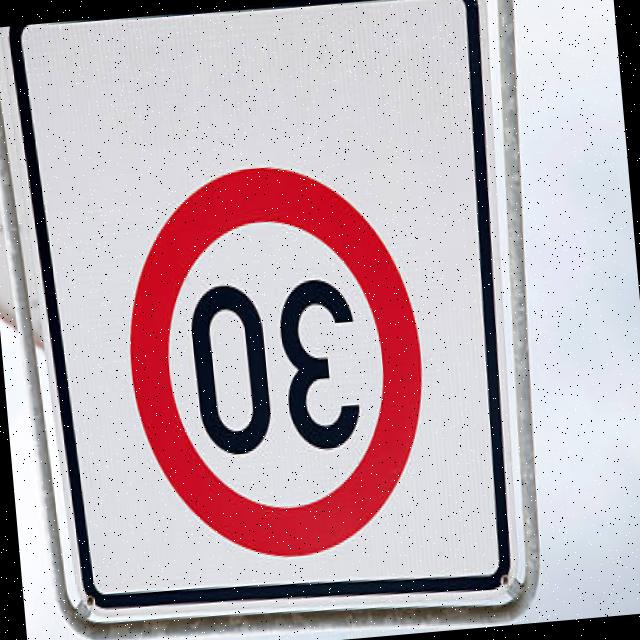speed_limit_30: (104, 152, 439, 577)
